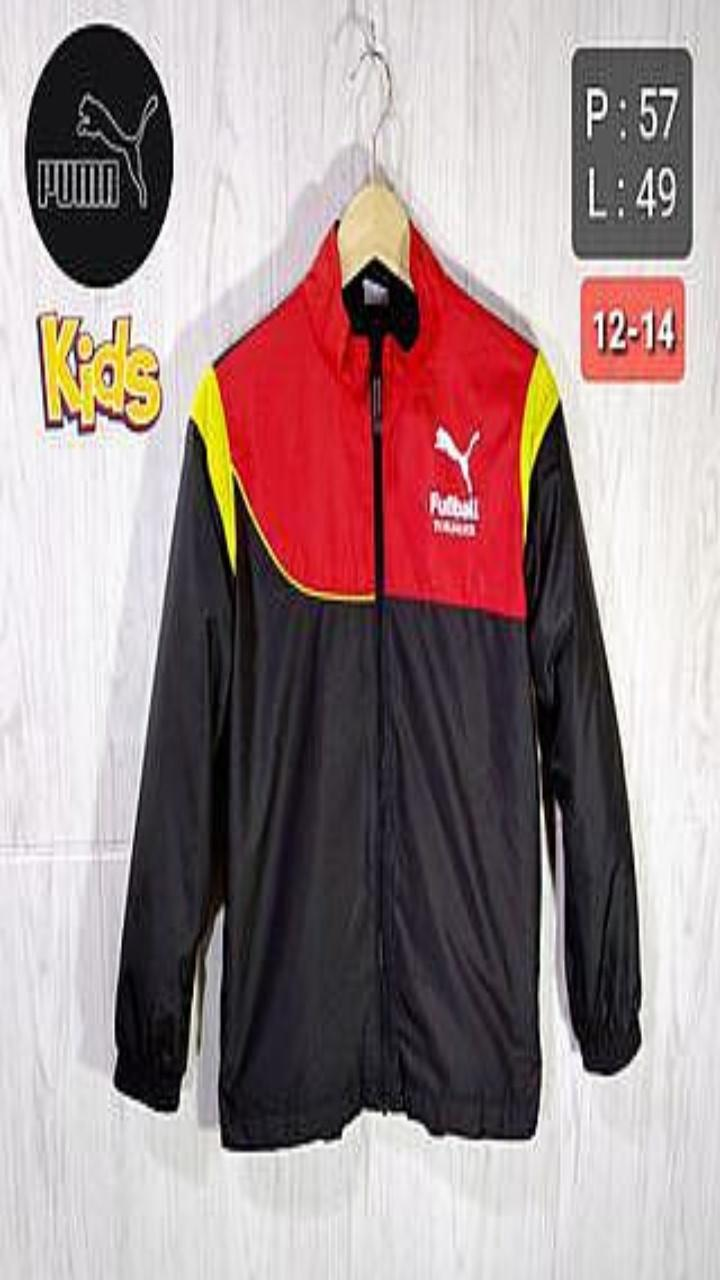Sports_Jacket: (113, 221, 640, 1148)
